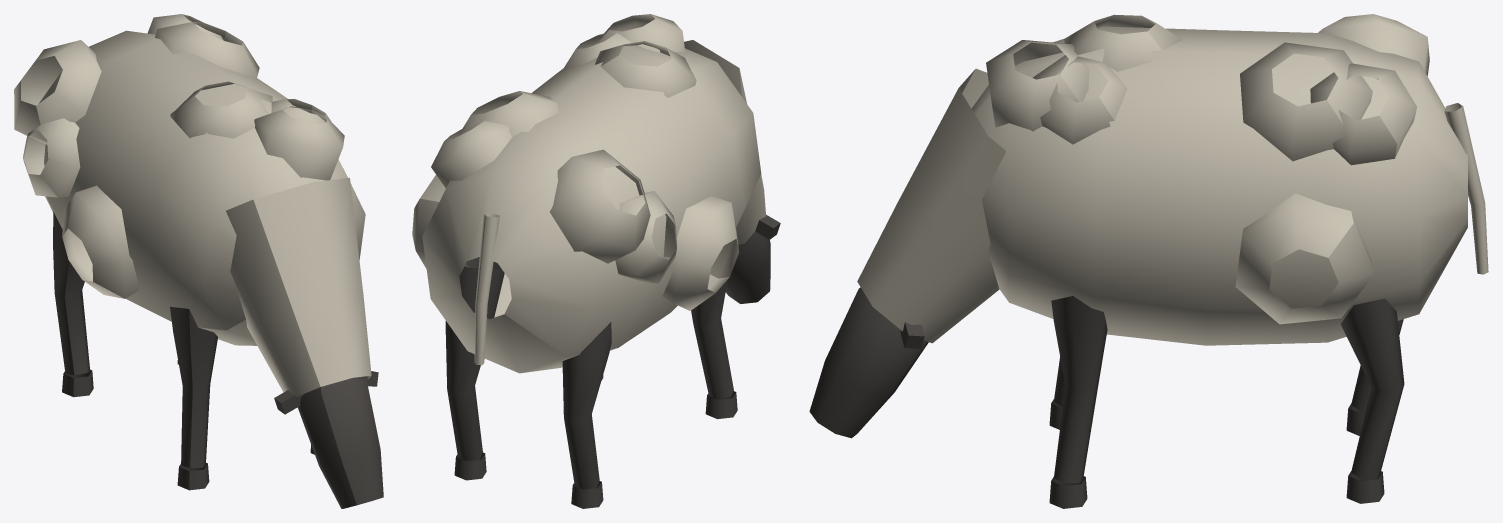
Rendered from sheep-grazing.glb.
3 renders of one model, left to right at view 1: azimuth 30°, elevation 25°; view 2: azimuth 150°, elevation 25°; view 3: azimuth 270°, elevation 25°, orthographic. The views are drawn at different scales.
Parts seen in each view (by area): view 1: sheep-grazing, sheep-grazing-face; view 2: sheep-grazing, sheep-grazing-face; view 3: sheep-grazing, sheep-grazing-face.
Boxes of the visible parts, x1,y1,x2,y2 form: sheep-grazing: (14, 14, 371, 396); sheep-grazing-face: (53, 211, 383, 508); sheep-grazing: (412, 14, 765, 373); sheep-grazing-face: (445, 214, 780, 508); sheep-grazing: (857, 14, 1488, 345); sheep-grazing-face: (809, 287, 1404, 508).
Bounding box in the file's own units: 0.7355 × 0.9782 × 1.39.
